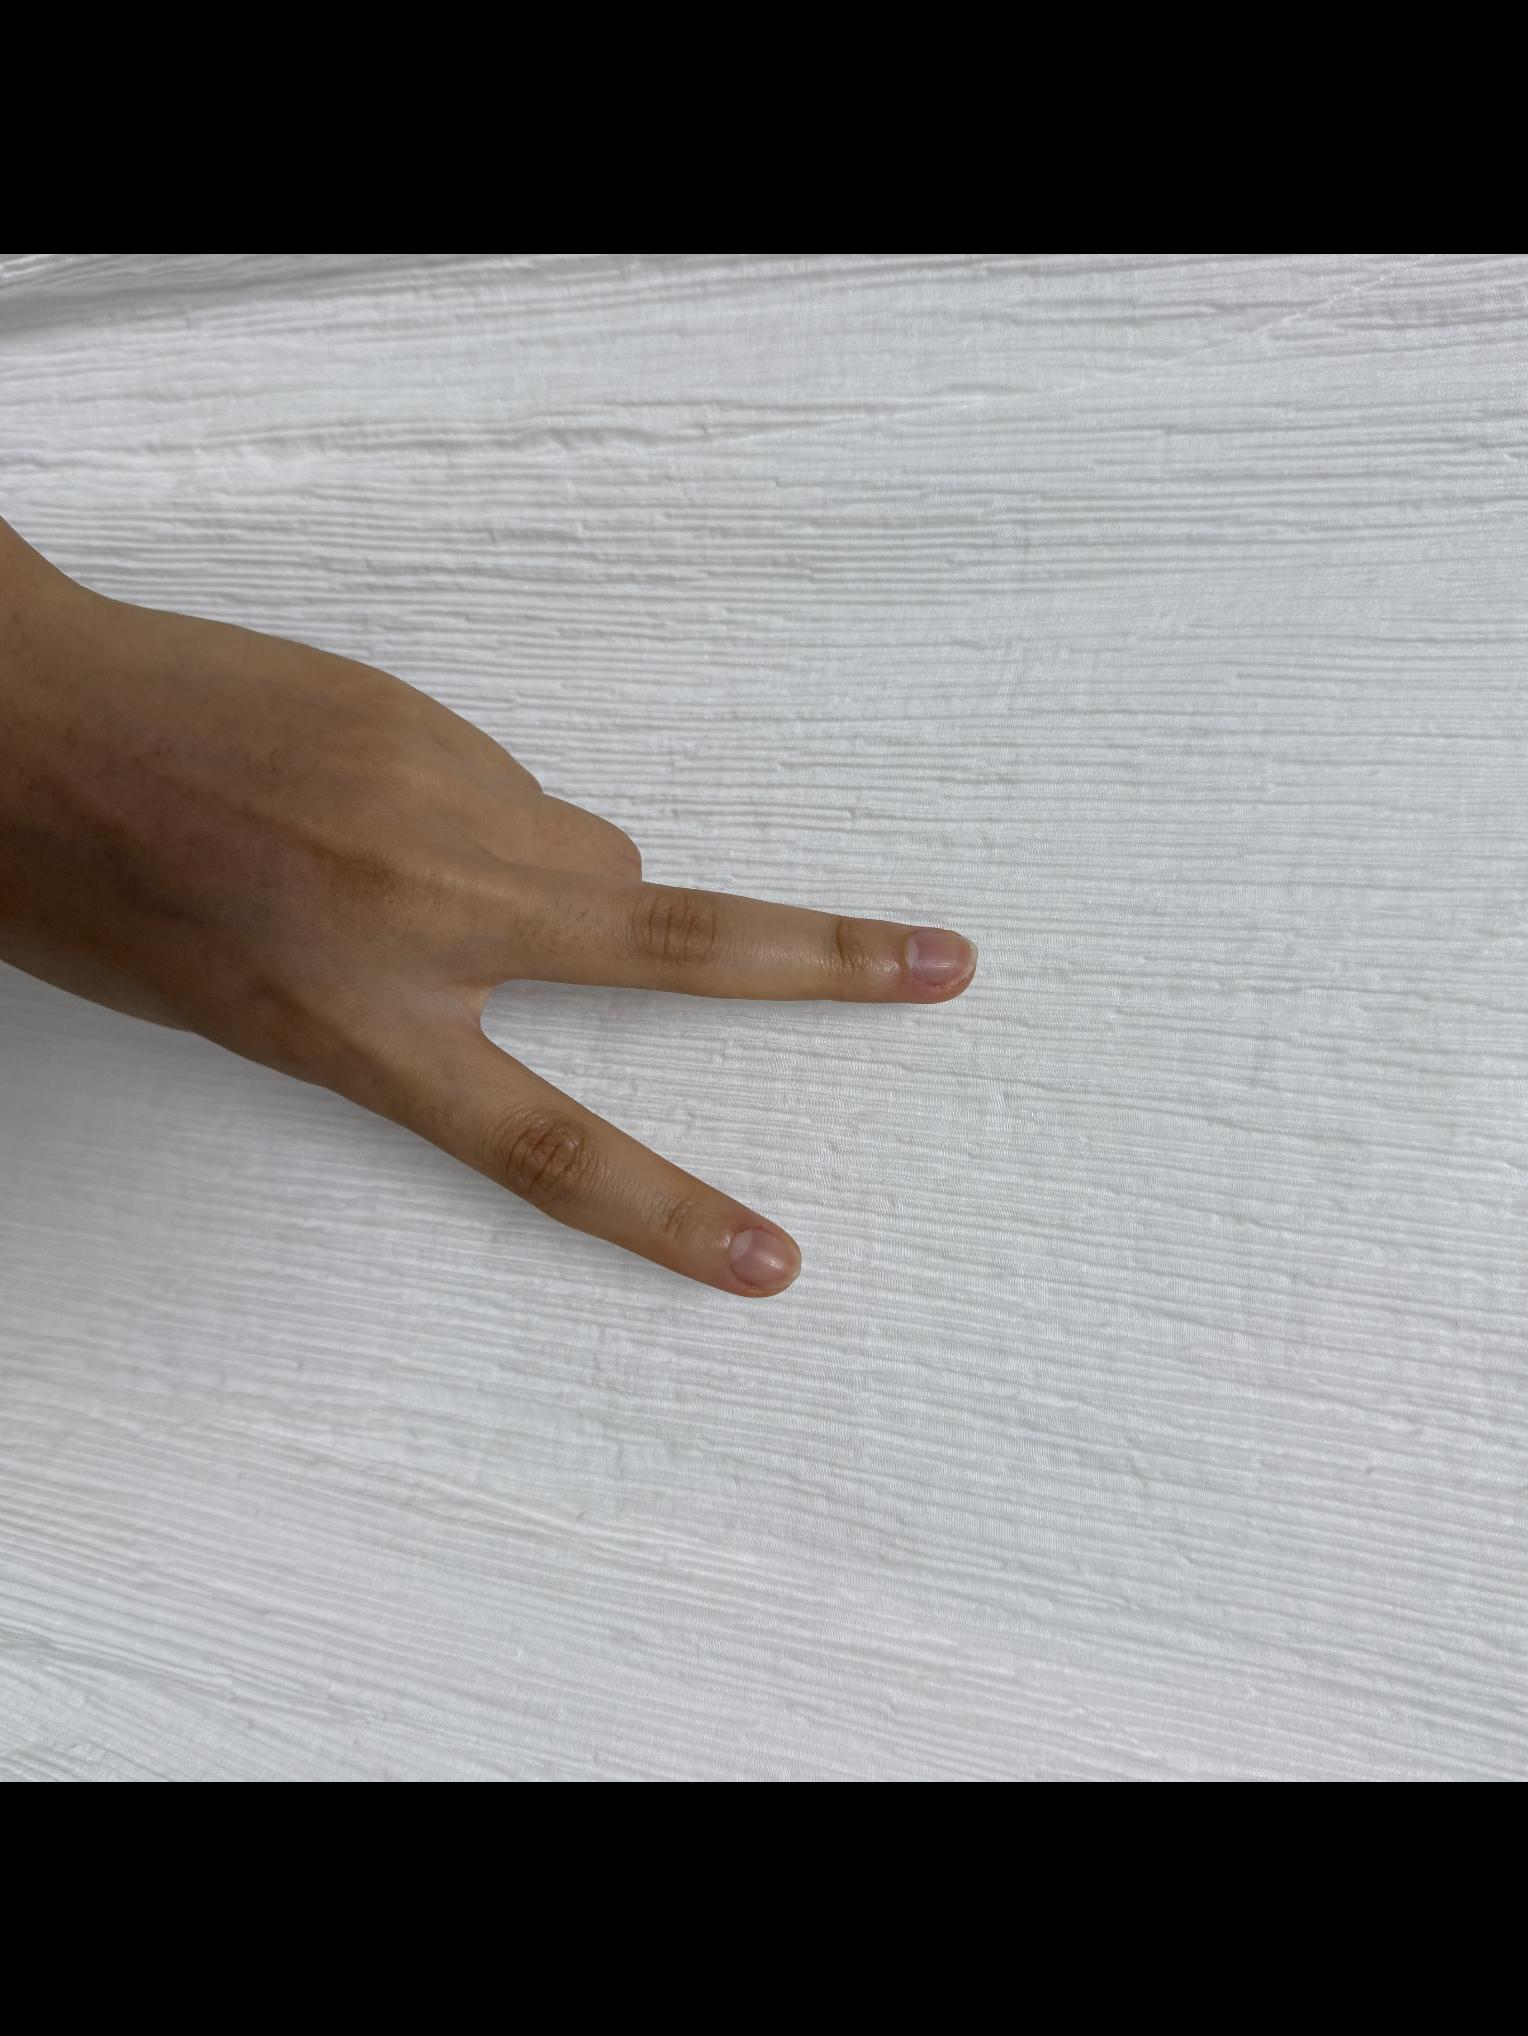v: (0, 592, 1005, 1324)
